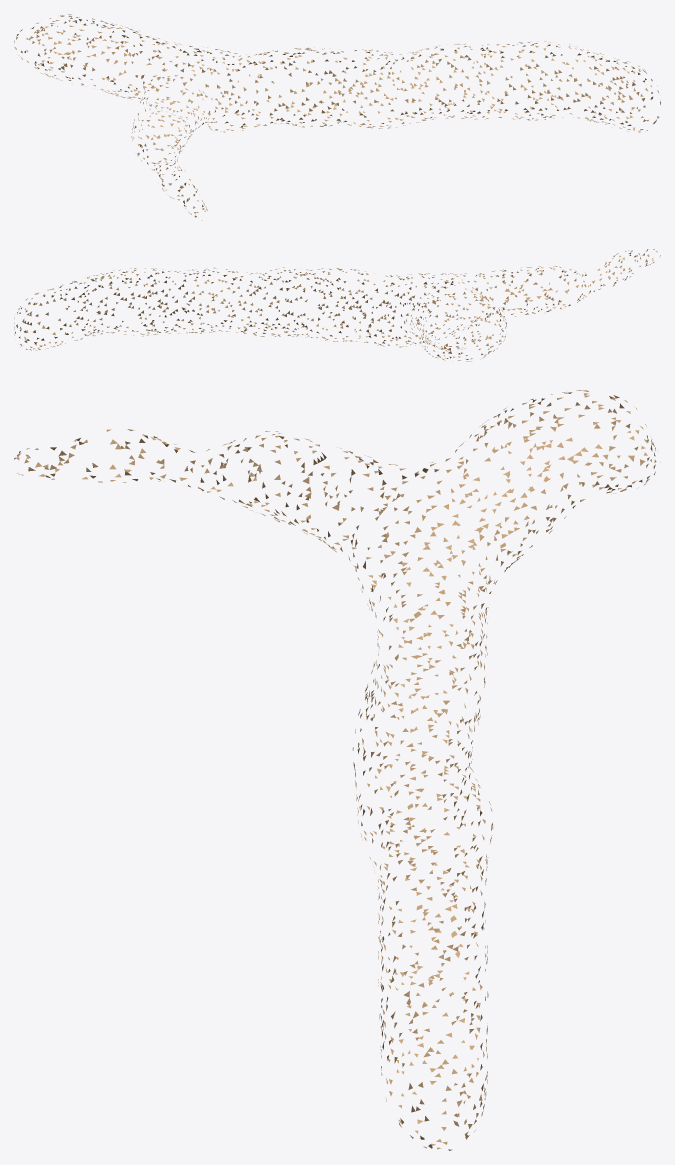
Rendered from morph_006.glb.
The picture shows the model from 3 angles, top to bottom: view 1: azimuth 30°, elevation 25°; view 2: azimuth 150°, elevation 25°; view 3: azimuth 270°, elevation 25°; orthographic projection. The views are drawn at different scales.
Bounding box in the file's own units: 116 × 37.97 × 68.44.
